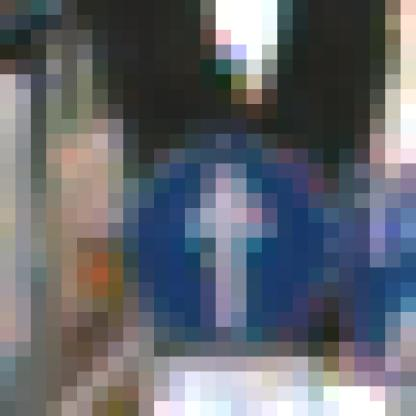AheadOnly: (93, 75, 340, 328)
